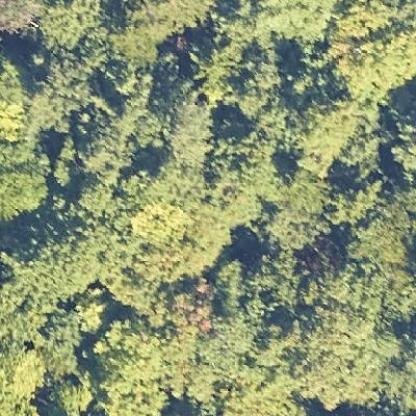tree-top: (0, 55, 49, 232), (94, 314, 178, 415), (165, 84, 221, 176)
